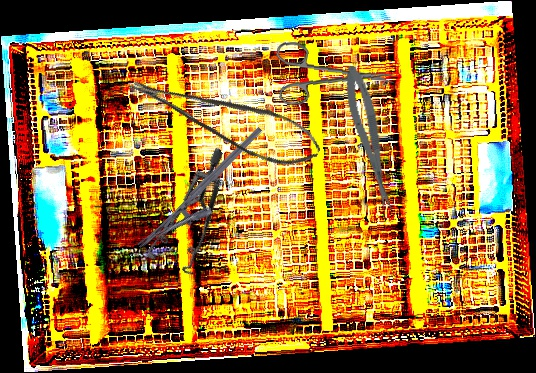Iris Scissors: (272, 40, 398, 113)
Micro Scissor: (128, 46, 328, 184), (339, 63, 398, 214)
Needle Holder: (135, 125, 280, 267)
Speculum: (118, 146, 269, 290)
